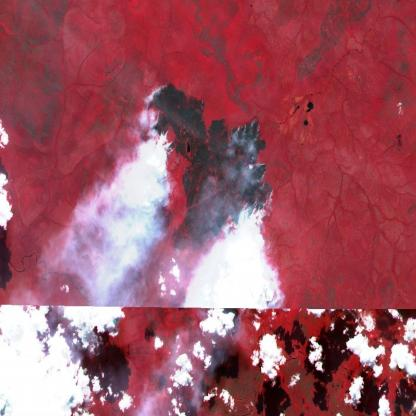fire: (145, 79, 276, 244)
